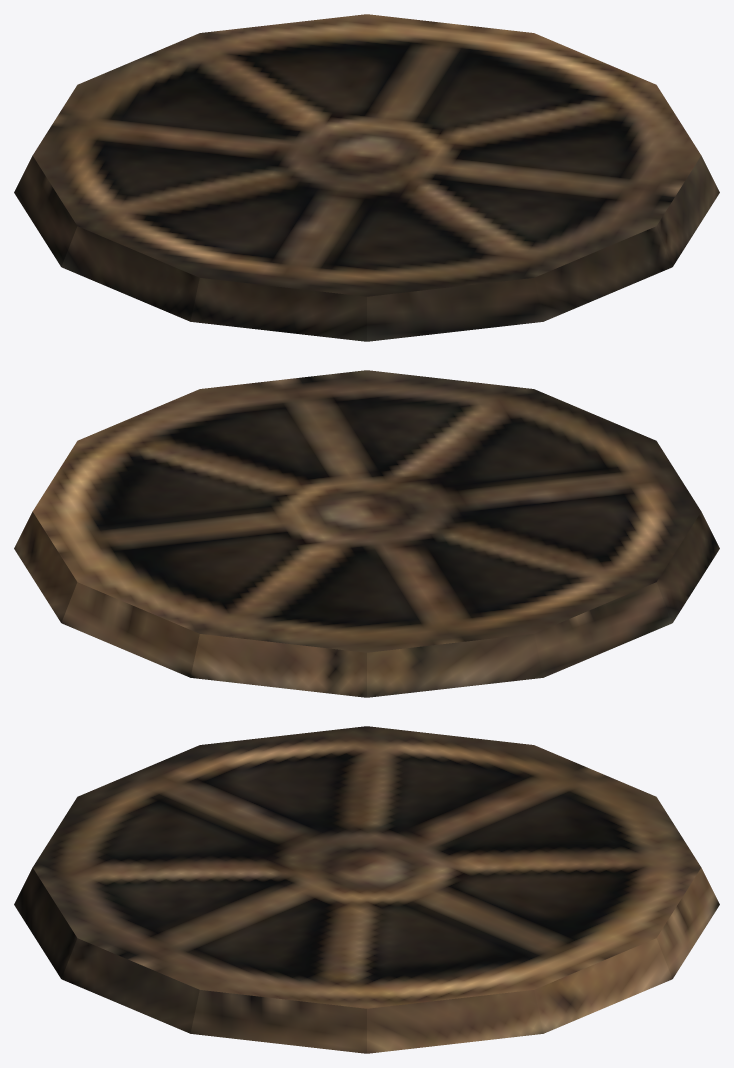
The model's file is manhole.fbx.
3 renders of one model, top to bottom at view 1: azimuth 30°, elevation 25°; view 2: azimuth 150°, elevation 25°; view 3: azimuth 270°, elevation 25°, orthographic.
Visible parts, largest first — view 1: pCylinder1; view 2: pCylinder1; view 3: pCylinder1.
Part boxes in pixels (<box>): pCylinder1: <box>14,14,719,341</box>; pCylinder1: <box>14,370,719,697</box>; pCylinder1: <box>14,726,719,1053</box>.
Bounding box in the file's own units: 1.81 × 0.105 × 1.81.
